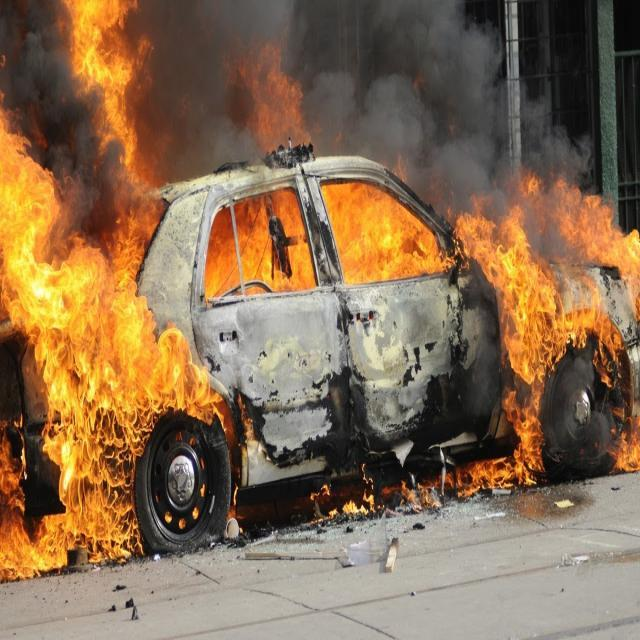Fire: (58, 246, 144, 558), (471, 222, 552, 376), (563, 190, 640, 348), (2, 130, 52, 330), (334, 182, 436, 280), (147, 310, 211, 432), (236, 196, 312, 295), (1, 446, 54, 582), (78, 4, 140, 85), (507, 396, 542, 496), (450, 464, 499, 496)
